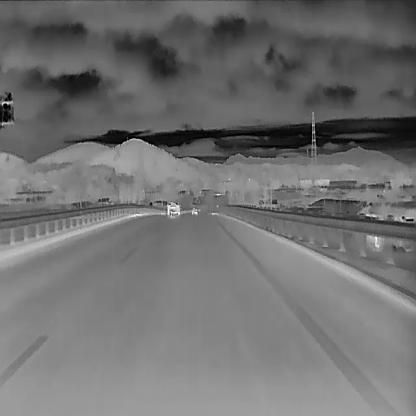car: (166, 200, 180, 214)
